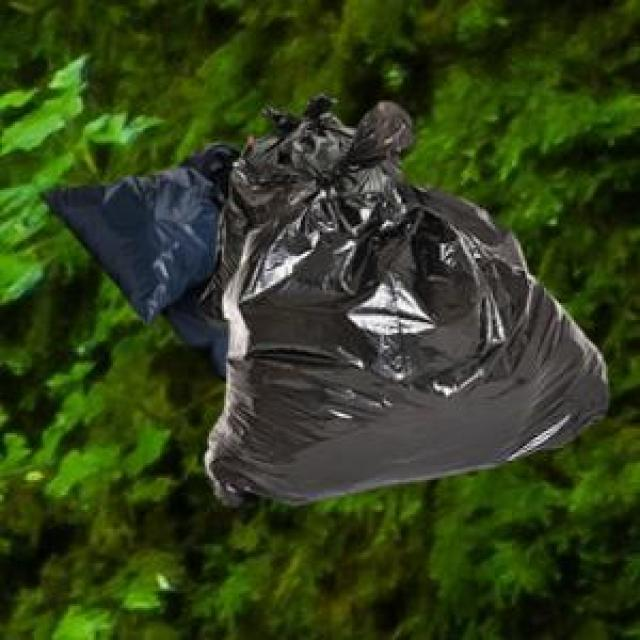waste: (46, 98, 608, 503)
